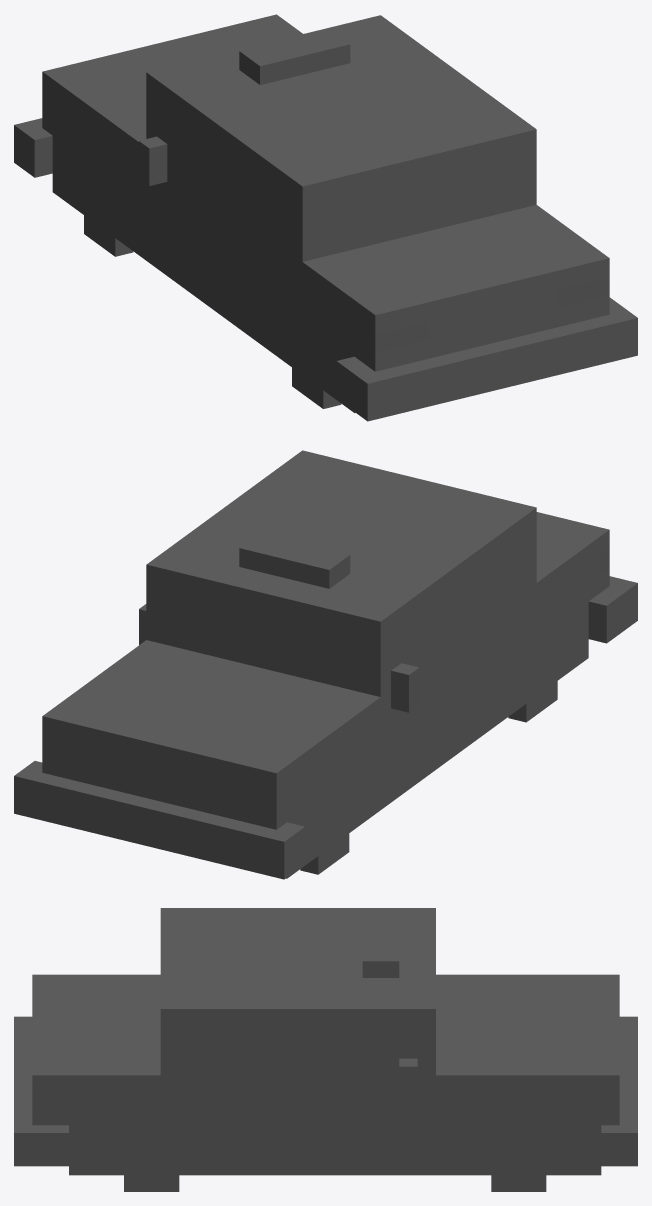
File: veh_cab1.obj
3 renders of one model, top to bottom at view 1: azimuth 30°, elevation 25°; view 2: azimuth 150°, elevation 25°; view 3: azimuth 270°, elevation 25°, orthographic. The views are drawn at different scales.
Size of the model in its own units: 15 by 12 by 34.
